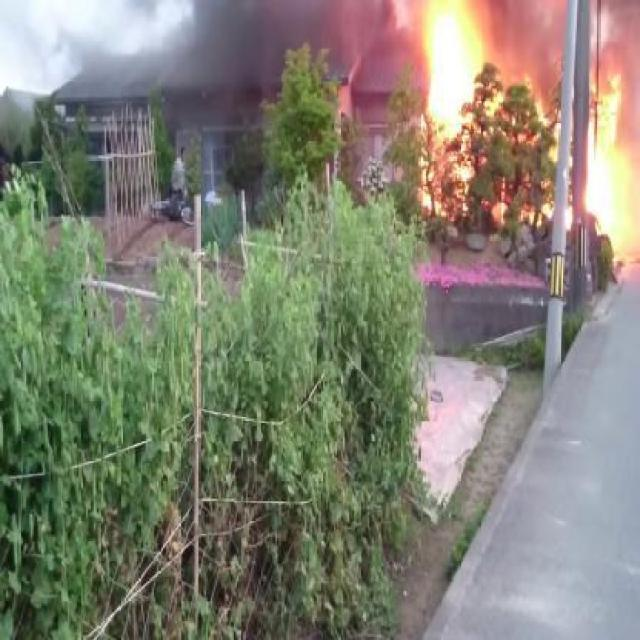Fire: (422, 2, 489, 138), (588, 150, 638, 262), (419, 156, 477, 224), (590, 91, 621, 154), (520, 196, 554, 238), (491, 200, 508, 226), (610, 75, 624, 91)
Smoke: (197, 0, 391, 88), (146, 34, 200, 91), (394, 25, 423, 87)
